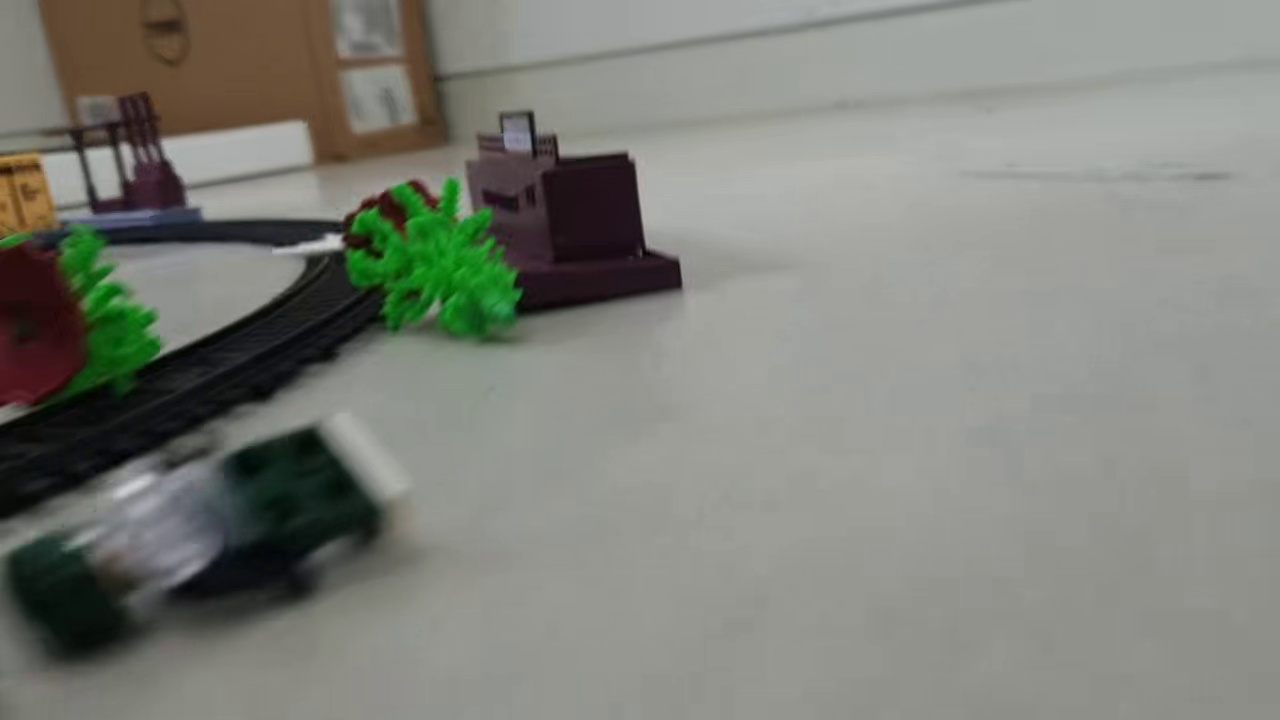people: (1, 407, 411, 667)
tree: (341, 174, 523, 347), (1, 223, 163, 409)
web: (271, 231, 353, 259)
